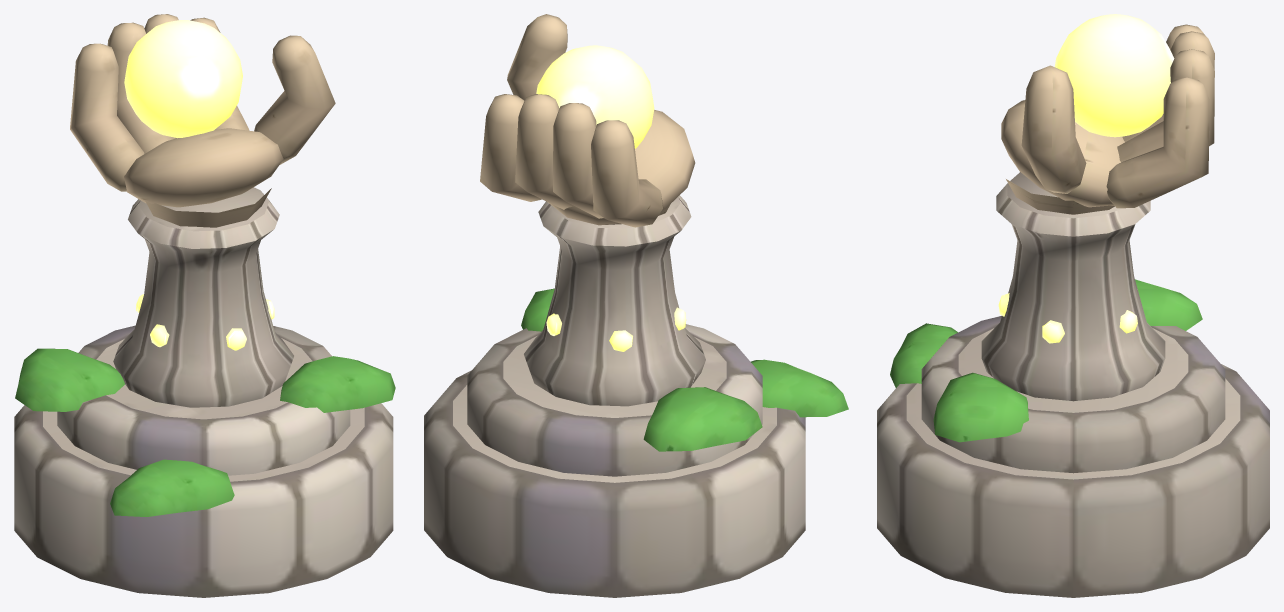
The model's file is star_shrine.glb.
The picture shows the model from 3 angles, left to right: view 1: azimuth 30°, elevation 25°; view 2: azimuth 150°, elevation 25°; view 3: azimuth 270°, elevation 25°; orthographic projection. The views are drawn at different scales.
Visible parts, largest first — view 1: star_shrine, Pearl; view 2: star_shrine, Pearl; view 3: star_shrine, Pearl.
Boxes of the visible parts, <box> form: star_shrine: <box>14,14,395,597</box>; Pearl: <box>124,20,242,138</box>; star_shrine: <box>424,14,848,597</box>; Pearl: <box>536,45,654,148</box>; star_shrine: <box>877,24,1269,597</box>; Pearl: <box>1054,14,1174,137</box>.
Size of the model in its own units: 2.12 by 2.9 by 2.09.
3 materials, 3 textured.
